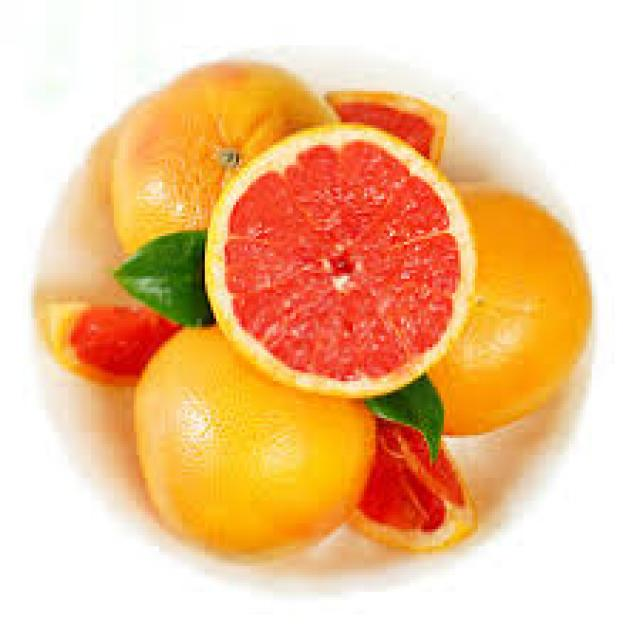organic waste: (199, 120, 469, 396), (130, 318, 372, 554), (369, 182, 592, 435), (106, 60, 342, 276), (344, 401, 478, 546), (34, 293, 199, 384), (108, 228, 213, 338), (321, 88, 444, 171), (361, 373, 444, 455)
